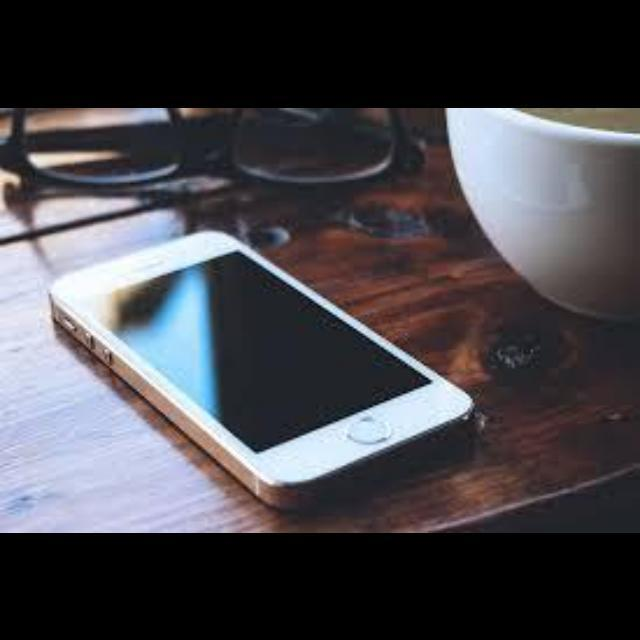PhoneUse: (51, 226, 476, 509)
